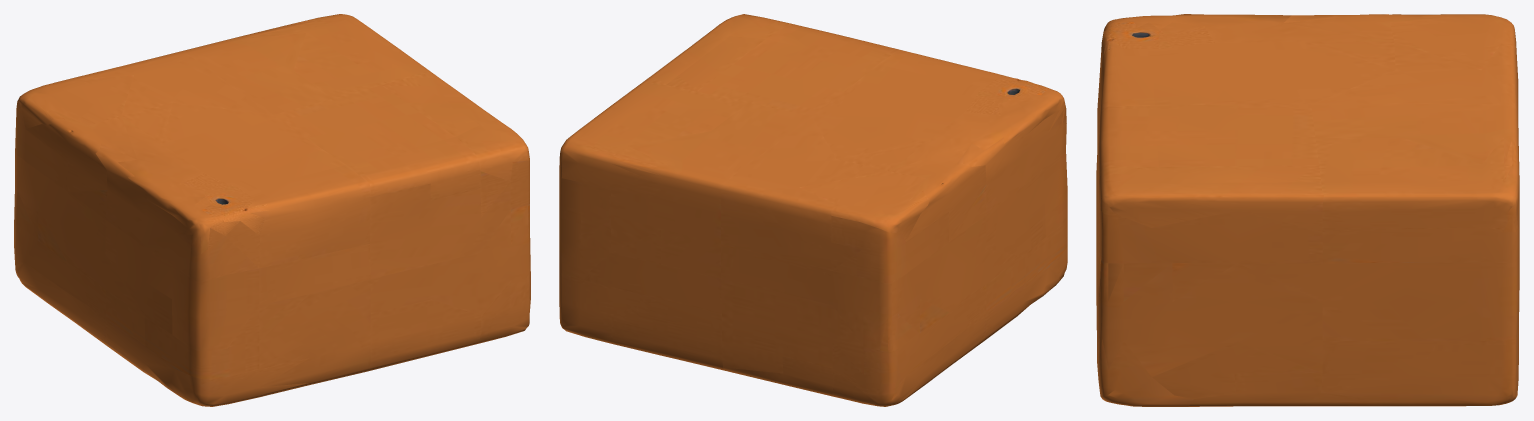
The model's file is block_orange.glb.
3 renders of one model, left to right at view 1: azimuth 30°, elevation 25°; view 2: azimuth 150°, elevation 25°; view 3: azimuth 270°, elevation 25°, orthographic. The views are drawn at different scales.
Parts seen in each view (by area): view 1: orange_block__export_tmp; view 2: orange_block__export_tmp; view 3: orange_block__export_tmp.
Boxes of the visible parts, left/top/right/bottom form: orange_block__export_tmp: left=14, top=14, right=530, bottom=406; orange_block__export_tmp: left=559, top=14, right=1067, bottom=406; orange_block__export_tmp: left=1096, top=14, right=1519, bottom=406.
Bounding box in the file's own units: 2.01 × 1.08 × 1.94.
1 material, 1 textured.
